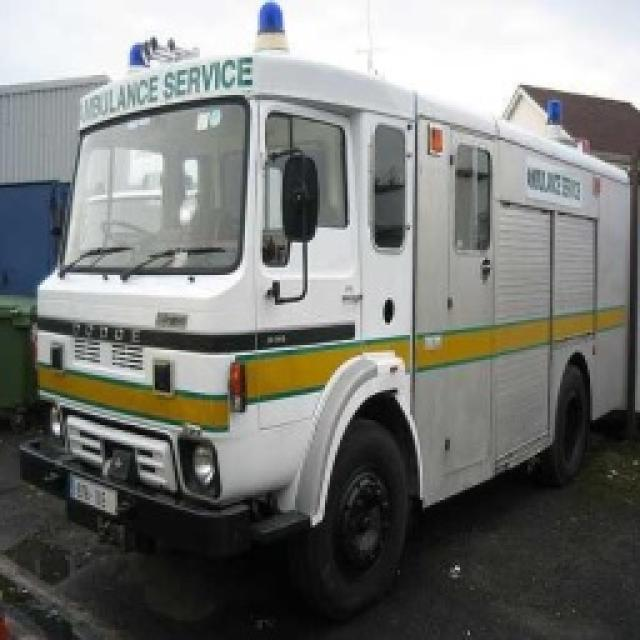emergency-vehicle: (32, 25, 634, 580)
